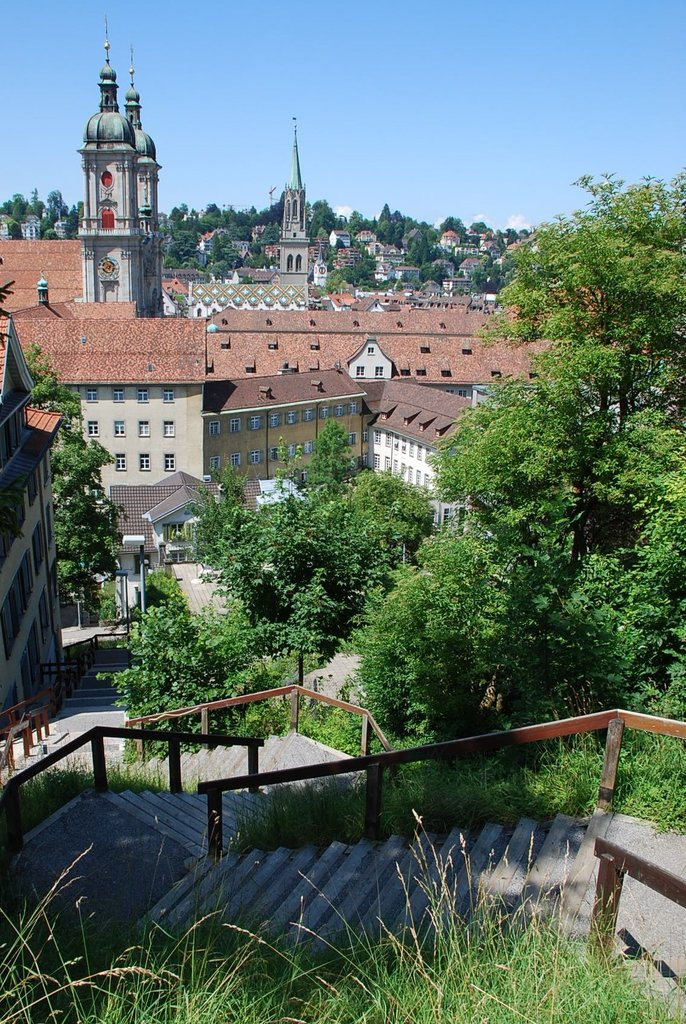Tree: (470, 137, 669, 728), (324, 536, 511, 744), (88, 595, 338, 743), (282, 480, 403, 638), (315, 193, 490, 300), (49, 429, 121, 616), (187, 474, 277, 616), (338, 459, 429, 592), (157, 200, 286, 280), (266, 569, 338, 690), (277, 419, 359, 508), (24, 336, 81, 462), (472, 221, 533, 300), (41, 186, 81, 239), (0, 186, 33, 241)
